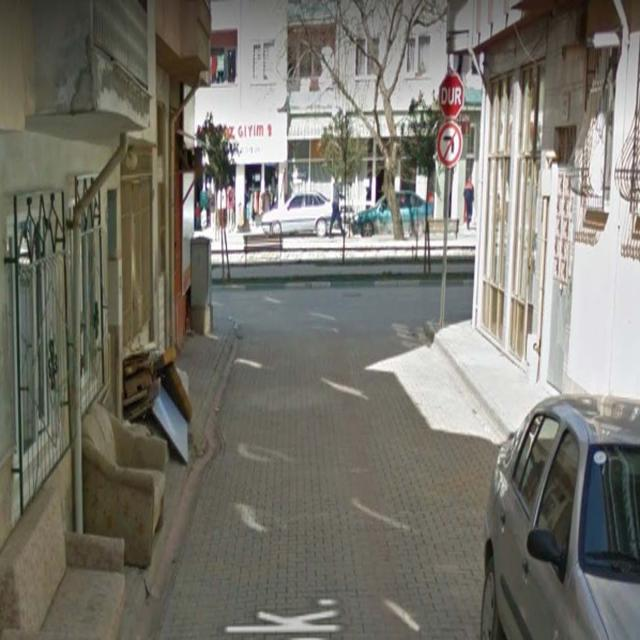dur: (441, 73, 464, 119)
soladonulmez: (438, 121, 462, 167)
